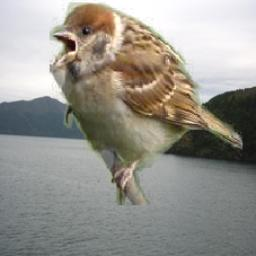Sparrow: (51, 0, 244, 206)
